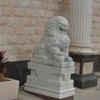Statue: (20, 13, 77, 94)
